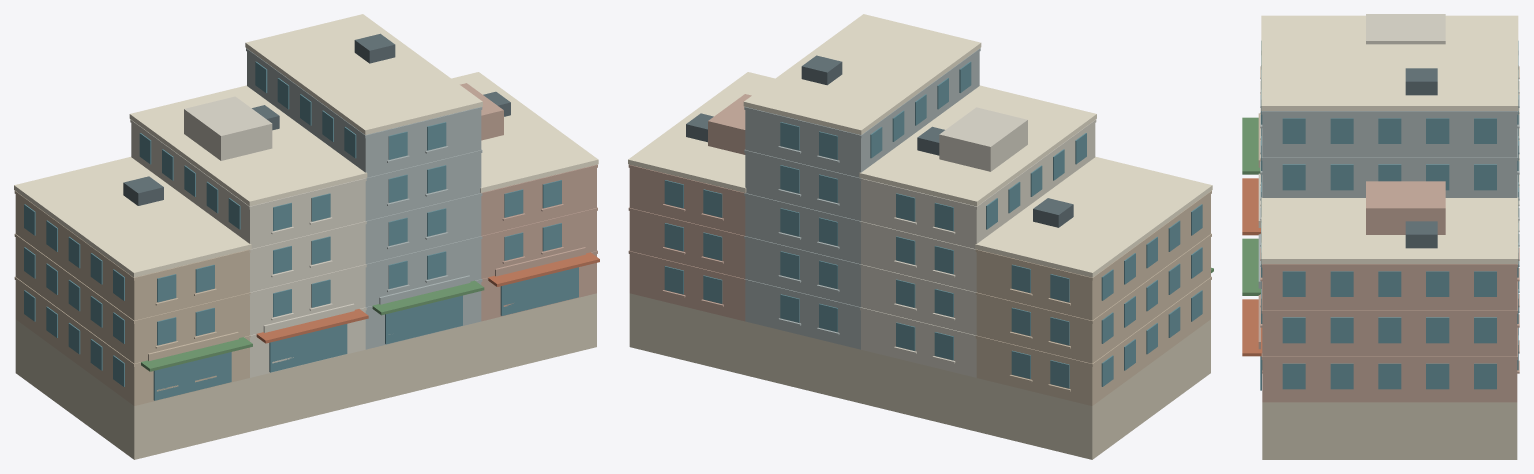
The model's file is streetwall-0.glb.
The picture shows the model from 3 angles, left to right: view 1: azimuth 30°, elevation 25°; view 2: azimuth 150°, elevation 25°; view 3: azimuth 270°, elevation 25°; orthographic projection. The views are drawn at different scales.
Size of the model in its own units: 36.16 by 21.3 by 17.39.
